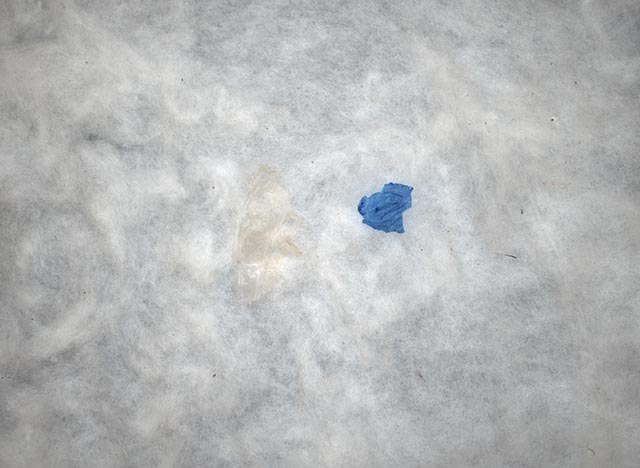plastic film: (226, 163, 309, 307), (356, 181, 414, 234)
